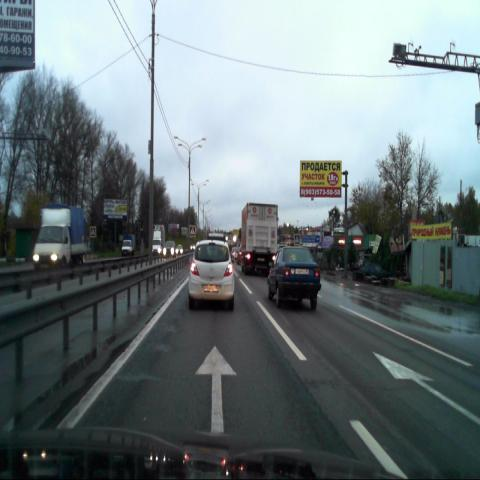5_19_1: (189, 225, 196, 238), (90, 225, 96, 238), (294, 234, 300, 246)
